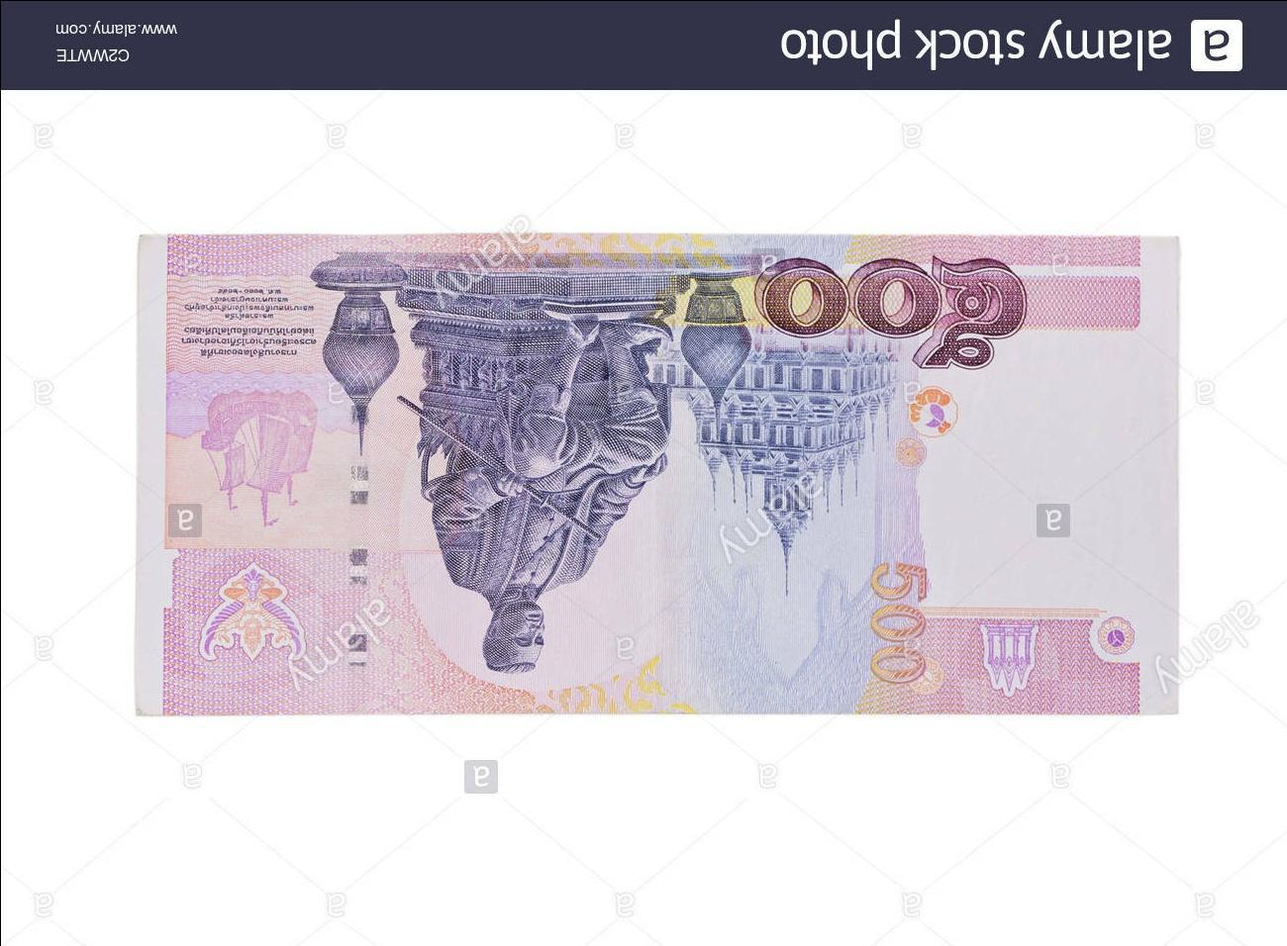500BahtTai: (144, 233, 1187, 714)
